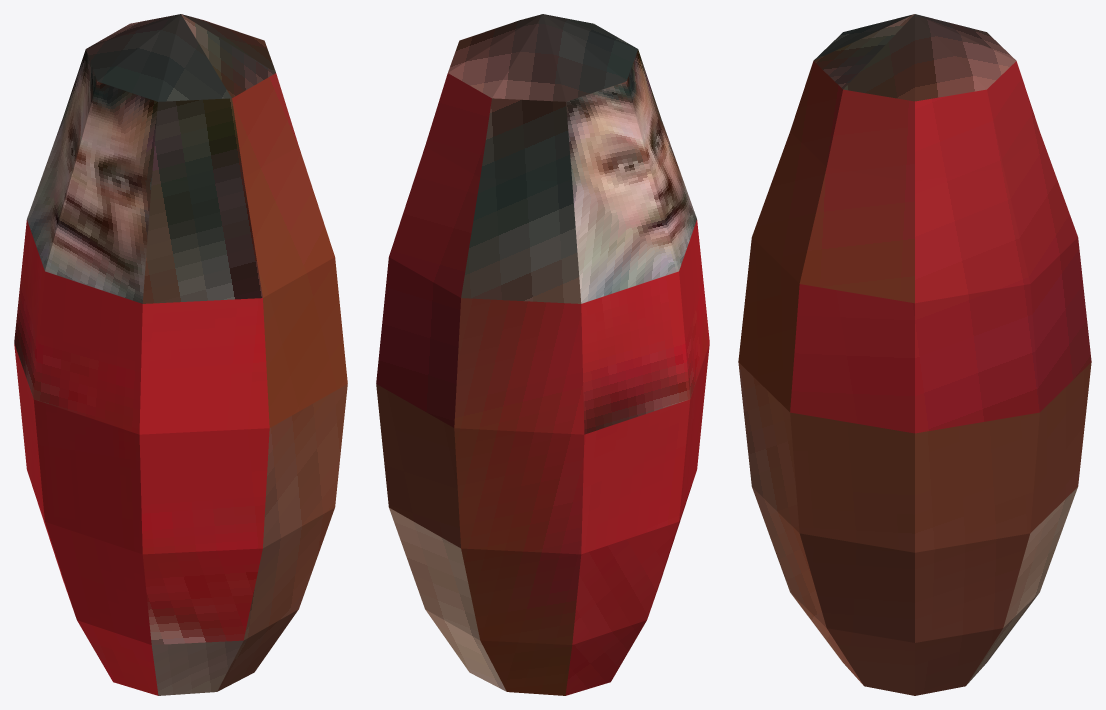
File: zizek.glb
3 renders of one model, left to right at view 1: azimuth 30°, elevation 25°; view 2: azimuth 150°, elevation 25°; view 3: azimuth 270°, elevation 25°, orthographic.
Visible parts, largest first — view 1: Sphere; view 2: Sphere; view 3: Sphere.
Boxes of the visible parts, x1=… form: Sphere: x1=14, y1=14, x2=347, y2=695; Sphere: x1=376, y1=14, x2=709, y2=695; Sphere: x1=738, y1=14, x2=1091, y2=695.
Size of the model in its own units: 0.9421 by 2.07 by 0.9824.
1 material, 1 textured.
